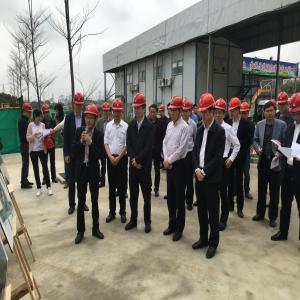none: (263, 102, 277, 122), (34, 109, 44, 124), (55, 103, 64, 119), (150, 105, 159, 120), (167, 101, 172, 119), (193, 105, 199, 115), (261, 105, 264, 110)
red: (198, 91, 215, 126), (169, 95, 184, 122), (132, 93, 148, 118), (85, 104, 100, 129), (289, 94, 300, 126), (215, 99, 227, 125), (277, 91, 290, 115), (229, 97, 242, 120), (113, 98, 124, 122), (74, 93, 86, 113), (240, 102, 251, 121), (182, 99, 191, 120), (23, 104, 33, 120), (104, 102, 112, 119), (43, 105, 52, 119), (159, 105, 167, 119), (189, 102, 194, 115)
